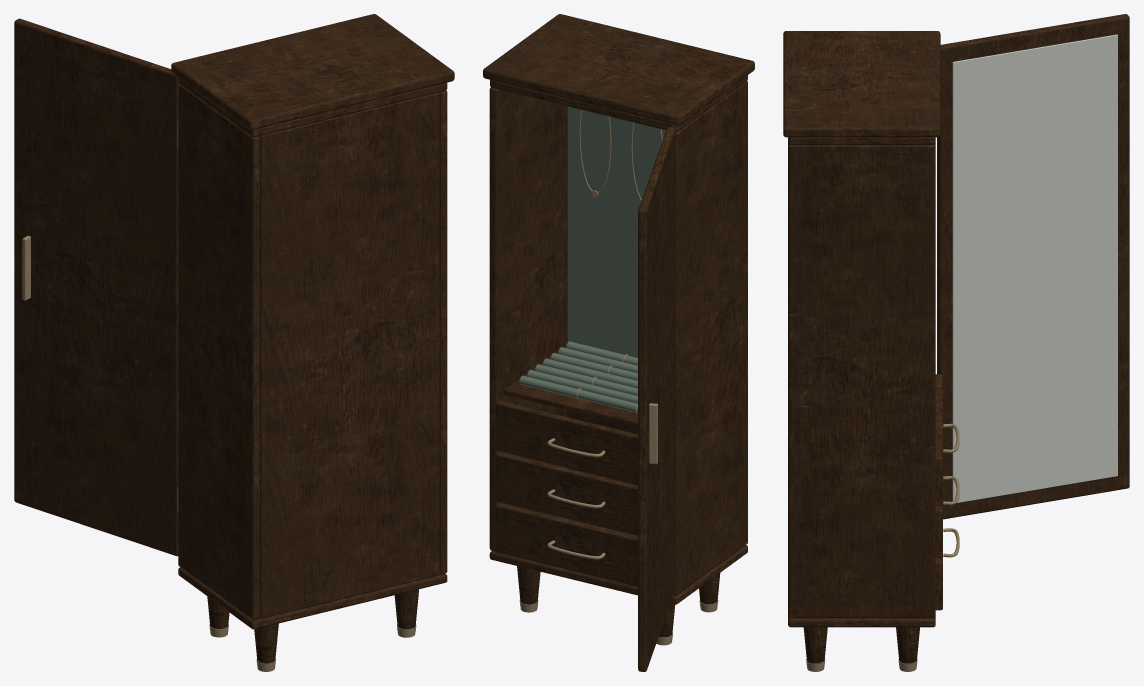
File: storage2-jewellery-armoire.glb
3 renders of one model, left to right at view 1: azimuth 30°, elevation 25°; view 2: azimuth 150°, elevation 25°; view 3: azimuth 270°, elevation 25°, orthographic. The views are drawn at different scales.
Visible parts, largest first — view 1: walnut_surfaces, bronze_surfaces; view 2: walnut_surfaces, velvet_surfaces, bronze_surfaces; view 3: walnut_surfaces, mirror_surfaces, bronze_surfaces.
Boxes of the visible parts, x1,y1,x2,y2 form: walnut_surfaces: (14,14,454,663); bronze_surfaces: (22,121,416,671); walnut_surfaces: (483,14,754,671); velvet_surfaces: (519,106,665,412); bronze_surfaces: (519,109,718,645); walnut_surfaces: (783,14,1129,663); mirror_surfaces: (952,34,1117,502); bronze_surfaces: (806,423,959,671).
Size of the model in its own units: 0.8216 by 1.66 by 0.9385.
4 materials, 1 textured.
